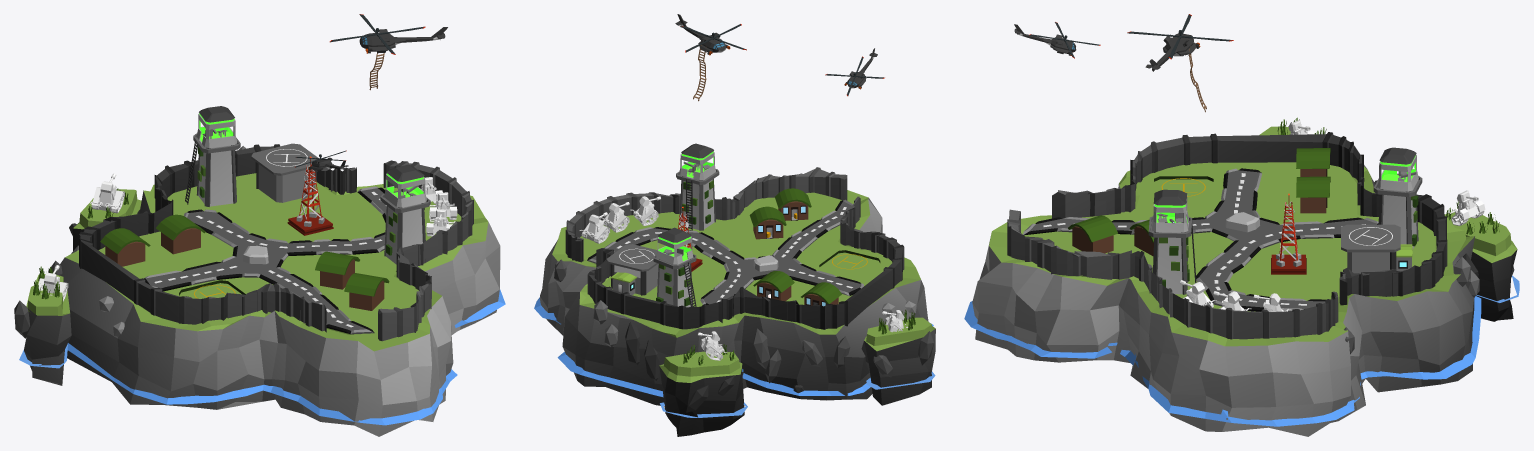
Rendered from skyfire-military-island.glb.
3 views of the same model, side by side, from view 1: azimuth 30°, elevation 25°; view 2: azimuth 150°, elevation 25°; view 3: azimuth 270°, elevation 25° (orthographic). The views are drawn at different scales.
Visible parts, largest first — view 1: World9-Miitary; view 2: World9-Miitary; view 3: World9-Miitary.
Boxes of the visible parts, x1=… form: World9-Miitary: x1=14, y1=14, x2=505, y2=436; World9-Miitary: x1=534, y1=14, x2=935, y2=436; World9-Miitary: x1=964, y1=14, x2=1519, y2=436.
Bounding box in the file's own units: 18.86 × 12.94 × 18.64.
3 materials, 2 textured.
